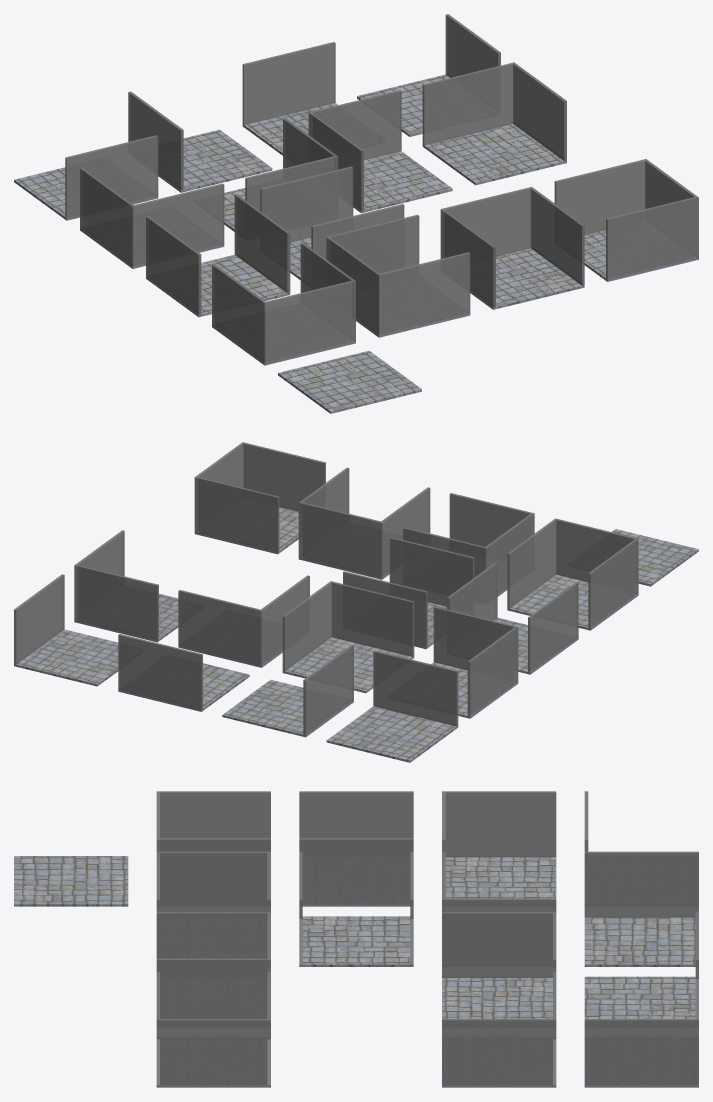
The model's file is Tiles.glb.
3 views of the same model, one above another, from view 1: azimuth 30°, elevation 25°; view 2: azimuth 150°, elevation 25°; view 3: azimuth 270°, elevation 25° (orthographic). The views are drawn at different scales.
Parts seen in each view (by area): view 1: GlasTile_SW, GlasTile_S, GlasTile_W, GlasTile_E, GlasTile_N, GlasTile_SN, GlasTile_ES, GlasTile_EN, GlasTile_ESW, GlasTile_EW, GlasTile_ESN, GlasTile_EWN (+3 smaller); view 2: GlasTile_W, GlasTile_N, GlasTile_WN, GlasTile_EWN, GlasTile_S, GlasTile_SW, GlasTile_ES, GlasTile_EN, GlasTile_SWN, GlasTile_ESW, GlasTile_ESN, GlasTile_EW (+3 smaller); view 3: GlasTile_ESN, GlasTile_SN, GlasTile_EN, GlasTile_ES, GlasTile_S, GlasTile_W, GlasTile_SW, GlasTile_SWN, GlasTile_N, GlasTile_E, GlasTile_EW, GlasTile_ESWN (+2 smaller).
Boxes of the visible parts, x1,y1,x2,y2 form: GlasTile_SW: (422,62,566,185); GlasTile_S: (440,187,584,309); GlasTile_W: (554,159,698,281); GlasTile_E: (326,214,470,337); GlasTile_N: (212,242,355,365); GlasTile_SN: (146,194,290,317); GlasTile_ES: (308,90,452,213); GlasTile_EN: (80,167,224,268); GlasTile_ESW: (242,42,338,155); GlasTile_EW: (260,166,404,279); GlasTile_ESN: (128,91,272,192); GlasTile_EWN: (14,135,158,220); GlasTile_W: (194,442,325,554); GlasTile_N: (507,518,638,630); GlasTile_WN: (282,581,414,693); GlasTile_EWN: (326,650,458,762); GlasTile_S: (298,467,430,579); GlasTile_SW: (74,530,178,642); GlasTile_ES: (178,575,309,667); GlasTile_EN: (431,606,518,718); GlasTile_SWN: (14,574,118,686); GlasTile_ESW: (118,634,249,711); GlasTile_ESN: (222,645,353,737); GlasTile_EW: (343,537,474,649); GlasTile_ESN: (584,851,698,966); GlasTile_SN: (299,791,413,906); GlasTile_EN: (442,791,556,898); GlasTile_ES: (442,912,556,1018); GlasTile_S: (156,912,270,1018); GlasTile_W: (156,972,270,1087); GlasTile_SW: (442,972,556,1087); GlasTile_SWN: (584,1019,698,1087); GlasTile_N: (156,791,270,851); GlasTile_E: (156,851,270,911); GlasTile_EW: (299,851,413,966); GlasTile_ESWN: (14,856,128,906).
Size of the model in its own units: 19 by 2.6 by 24.
2 materials, 1 textured.
